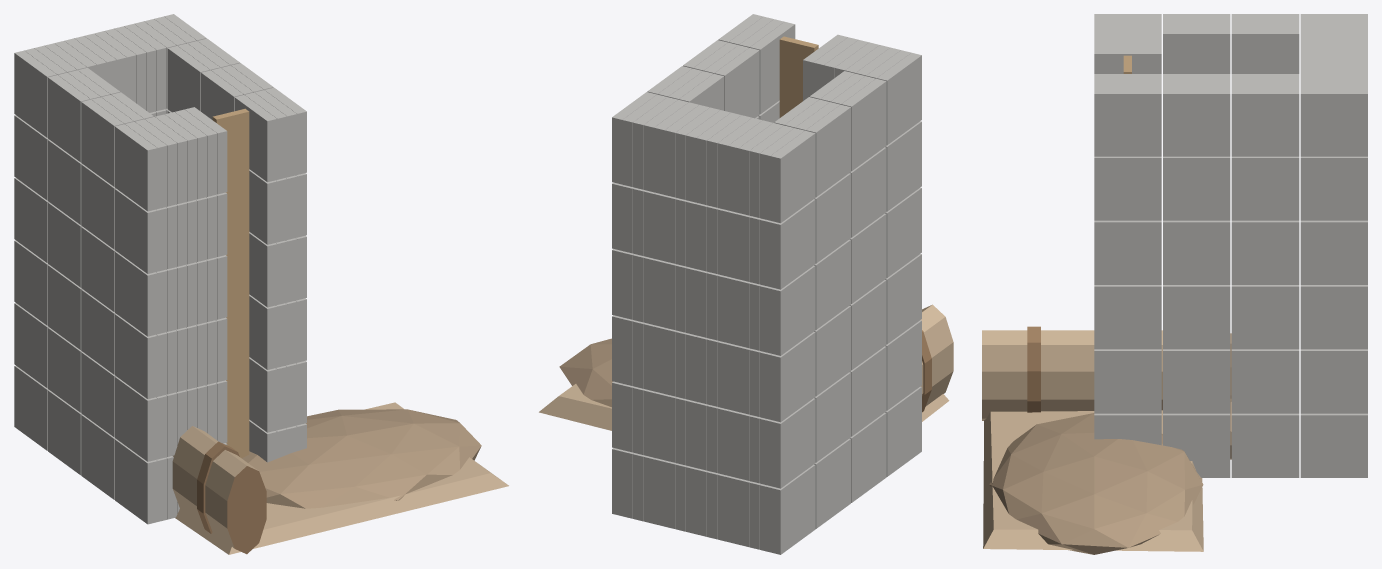
File: building_stone_house_half.glb
3 views of the same model, side by side, from view 1: azimuth 30°, elevation 25°; view 2: azimuth 150°, elevation 25°; view 3: azimuth 270°, elevation 25° (orthographic). The views are drawn at different scales.
Visible parts, largest first — view 1: building_stone_house_half; view 2: building_stone_house_half; view 3: building_stone_house_half.
Boxes of the visible parts, box(x1,y1,x2,y2) form: building_stone_house_half: box(14, 14, 508, 554); building_stone_house_half: box(539, 14, 953, 554); building_stone_house_half: box(982, 14, 1367, 554).
Size of the model in its own units: 1 by 1.14 by 1.
